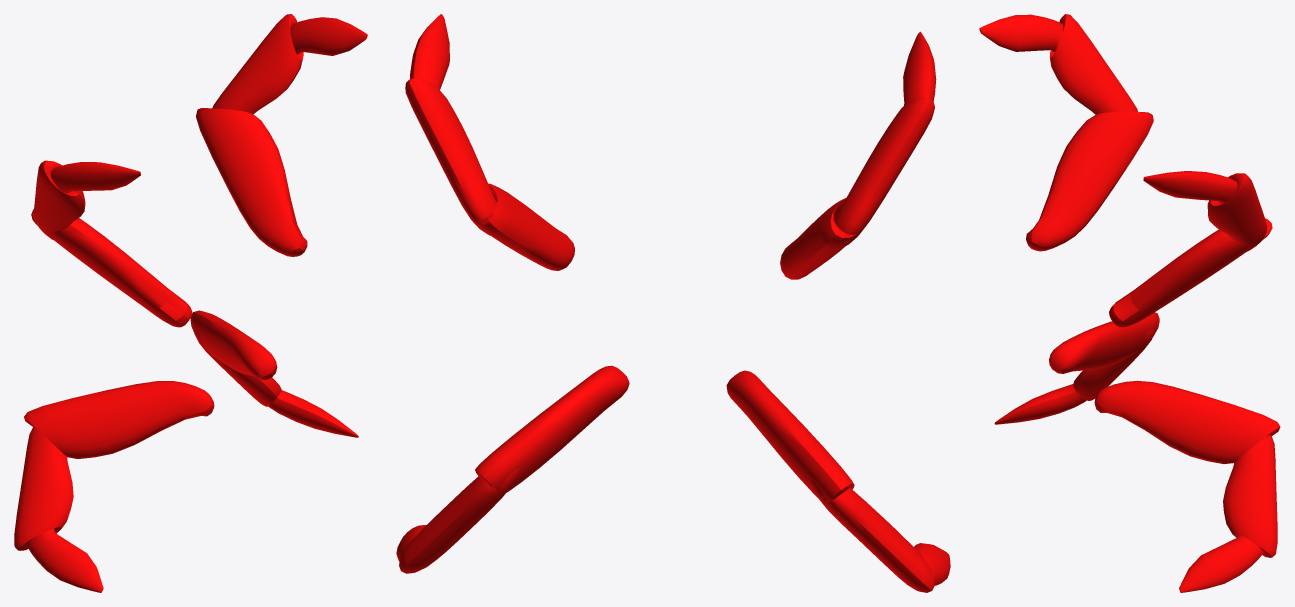
3 views of the same model, side by side, from view 1: azimuth 30°, elevation 25°; view 2: azimuth 150°, elevation 25°; view 3: azimuth 270°, elevation 25° (orthographic). The views are drawn at different scales.
Visible parts, largest first — view 1: back; view 2: back; view 3: back.
Boxes of the visible parts, x1,y1,x2,y2 form: back: (14, 14, 367, 592); back: (396, 14, 950, 592); back: (979, 14, 1280, 592).
Bounding box in the file's own units: 143 × 97.69 × 148.
